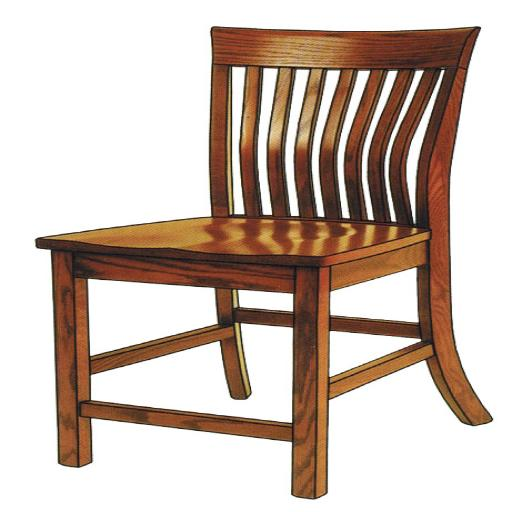chair: (11, 25, 497, 501)
